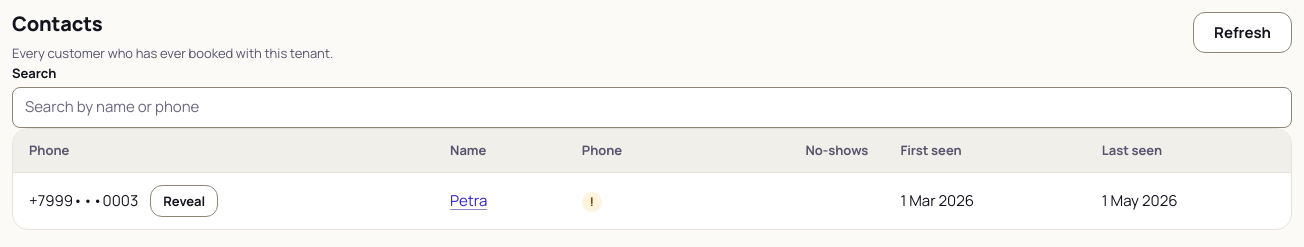
Test case: revealing a masked phone (23-30) › replaces the masked row with the server's own unmasked response on Reveal
The width and height of the screenshot is (1304, 247).
Click the button "Reveal" at (184, 201), box [150,185,218,217]
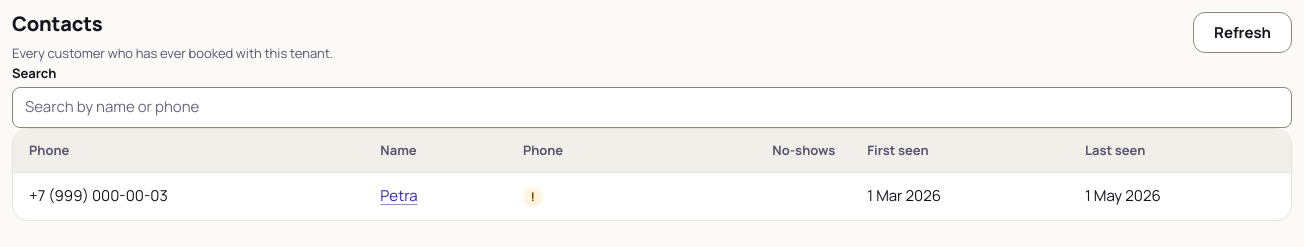
Expected: the text "+7999•••0003" is gone
